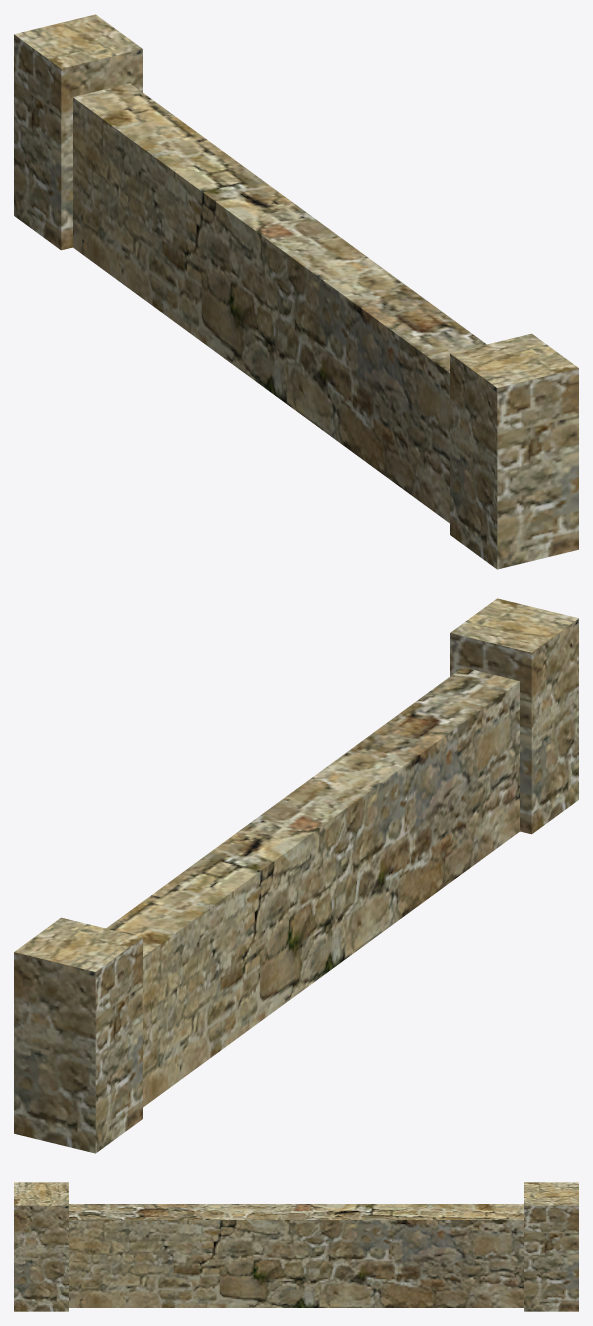
Rendered from fence_stone_a.dae.
3 views of the same model, one above another, from view 1: azimuth 30°, elevation 25°; view 2: azimuth 150°, elevation 25°; view 3: azimuth 270°, elevation 25° (orthographic). The views are drawn at different scales.
Visible parts, largest first — view 1: Box03-Pivot; view 2: Box03-Pivot; view 3: Box03-Pivot.
Boxes of the visible parts, box(x1,y1,x2,y2) form: Box03-Pivot: box(14, 14, 578, 569); Box03-Pivot: box(14, 598, 578, 1153); Box03-Pivot: box(14, 1182, 578, 1311).
Size of the model in its own units: 0.9995 by 10.24 by 2.12.
